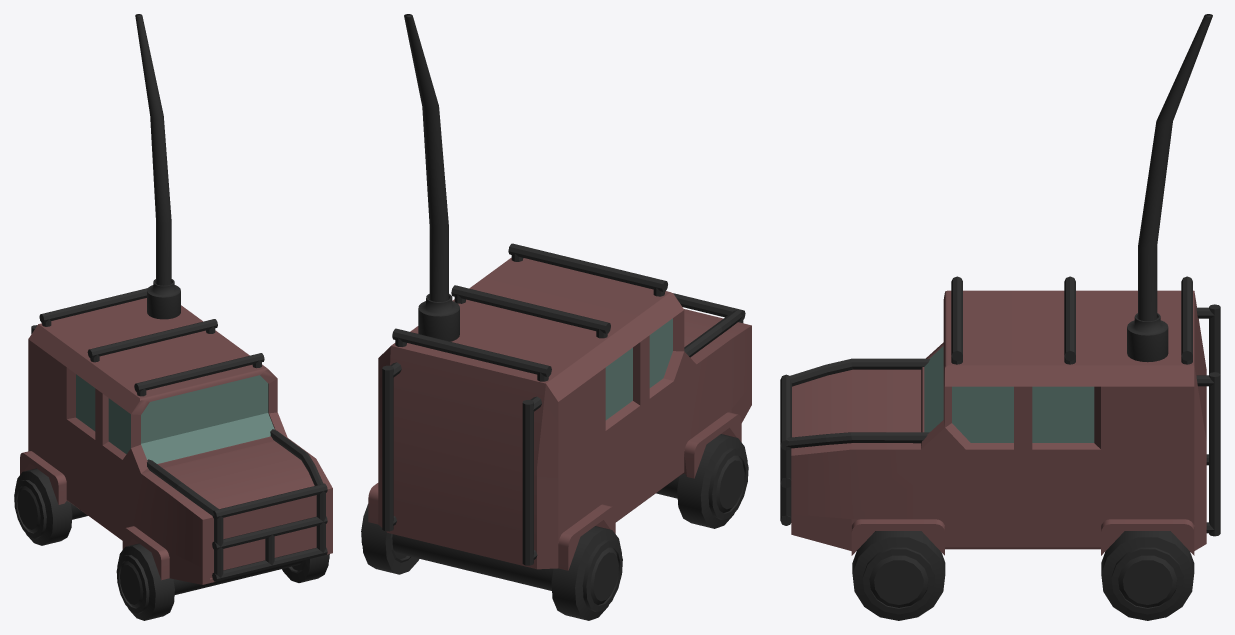
File: car.fbx
The picture shows the model from 3 angles, left to right: view 1: azimuth 30°, elevation 25°; view 2: azimuth 150°, elevation 25°; view 3: azimuth 270°, elevation 25°; orthographic projection. The views are drawn at different scales.
Visible parts, largest first — view 1: pCube3, pCylinder31, pCylinder2, pCylinder4, pCylinder20, pCylinder19, pCylinder12, pCylinder22, pCylinder6, pCylinder5, pCylinder3, pCylinder13 (+2 smaller); view 2: pCube3, pCylinder31, pCylinder4, pCylinder2, pCylinder29, pCylinder27, pCylinder28, pCylinder19, pCylinder20, pCylinder22, pCylinder1, pCylinder13 (+1 smaller); view 3: pCube3, pCylinder31, pCylinder1, pCylinder3, pCylinder28, pCylinder13, pCylinder14, pCylinder27, pCylinder20, pCylinder22, pCylinder19, pCylinder12.
Boxes of the visible parts, left/top/right/bottom form: pCube3: left=20, top=298, right=332, bottom=584; pCylinder31: left=135, top=14, right=180, bottom=319; pCylinder2: left=14, top=468, right=72, bottom=545; pCylinder4: left=116, top=543, right=174, bottom=620; pCylinder20: left=87, top=319, right=217, bottom=358; pCylinder19: left=134, top=353, right=264, bottom=392; pCylinder12: left=212, top=483, right=327, bottom=519; pCylinder22: left=39, top=288, right=147, bottom=322; pCylinder6: left=212, top=516, right=327, bottom=550; pCylinder5: left=212, top=547, right=327, bottom=581; pCylinder3: left=282, top=554, right=329, bottom=582; pCylinder13: left=147, top=459, right=218, bottom=515; pCube3: left=368, top=257, right=751, bottom=570; pCylinder31: left=404, top=14, right=459, bottom=341; pCylinder4: left=677, top=434, right=748, bottom=528; pCylinder2: left=551, top=526, right=622, bottom=620; pCylinder29: left=392, top=534, right=553, bottom=590; pCylinder27: left=522, top=396, right=541, bottom=565; pCylinder28: left=382, top=362, right=401, bottom=531; pCylinder19: left=508, top=243, right=667, bottom=291; pCylinder20: left=451, top=285, right=610, bottom=333; pCylinder22: left=392, top=328, right=551, bottom=376; pCylinder1: left=361, top=504, right=419, bottom=574; pCylinder13: left=684, top=310, right=742, bottom=357; pCube3: left=791, top=290, right=1206, bottom=555; pCylinder31: left=1127, top=14, right=1212, bottom=362; pCylinder1: left=1101, top=531, right=1194, bottom=620; pCylinder3: left=852, top=531, right=945, bottom=620; pCylinder28: left=1196, top=372, right=1220, bottom=536; pCylinder13: left=787, top=358, right=929, bottom=386; pCylinder14: left=786, top=432, right=929, bottom=448; pCylinder27: left=1196, top=304, right=1220, bottom=465; pCylinder20: left=1064, top=276, right=1075, bottom=361; pCylinder22: left=1181, top=276, right=1192, bottom=361; pCylinder19: left=951, top=276, right=962, bottom=361; pCylinder12: left=780, top=374, right=791, bottom=450.
Size of the model in its own units: 3.37 by 8.24 by 5.67.
